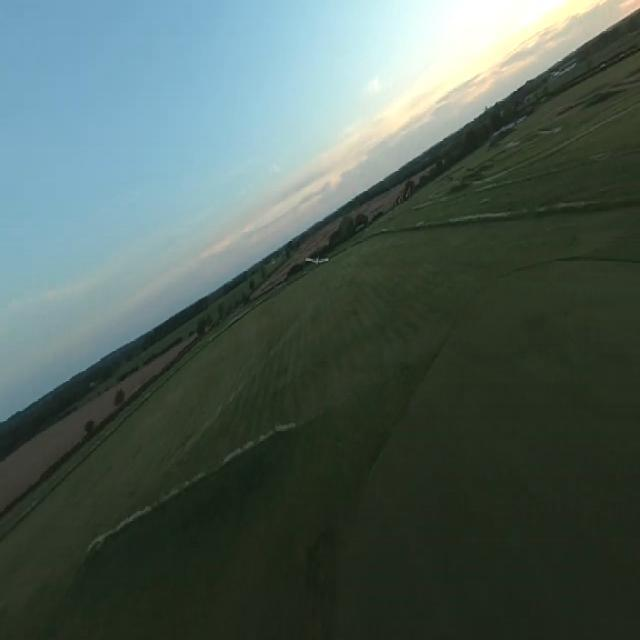iha: (304, 259, 330, 262)
